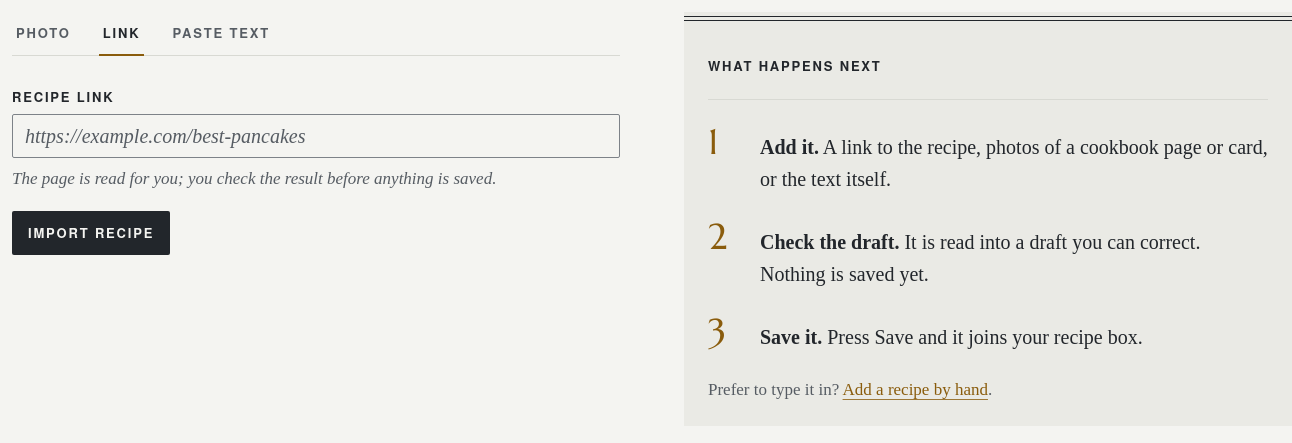
Test: ImportScreen › puts a validation error under the address field
The width and height of the screenshot is (1292, 443).
Type "nope" into the field labelled "Recipe link". click: (316, 136)
box: left=12, top=114, right=620, bottom=158
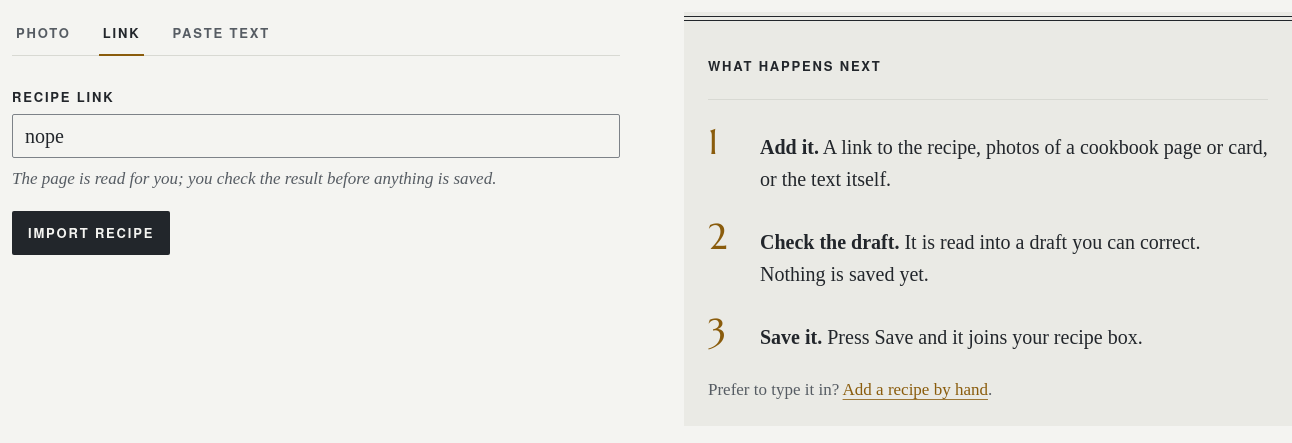
Click the button "Import recipe". click: (91, 233)
box: left=12, top=211, right=170, bottom=255
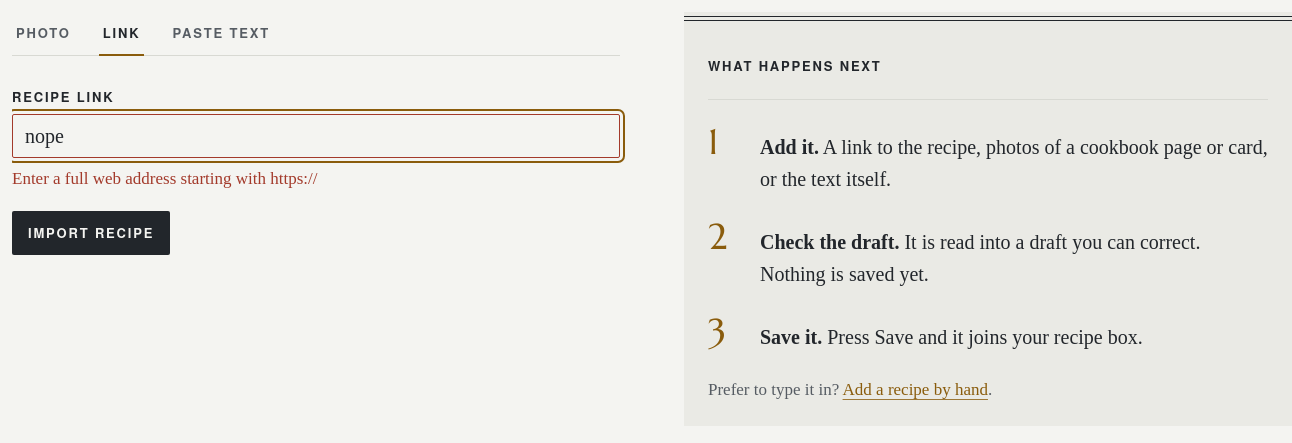
Now the text "Enter a full web address starting with https://" is shown, box left=12, top=168, right=318, bottom=188
